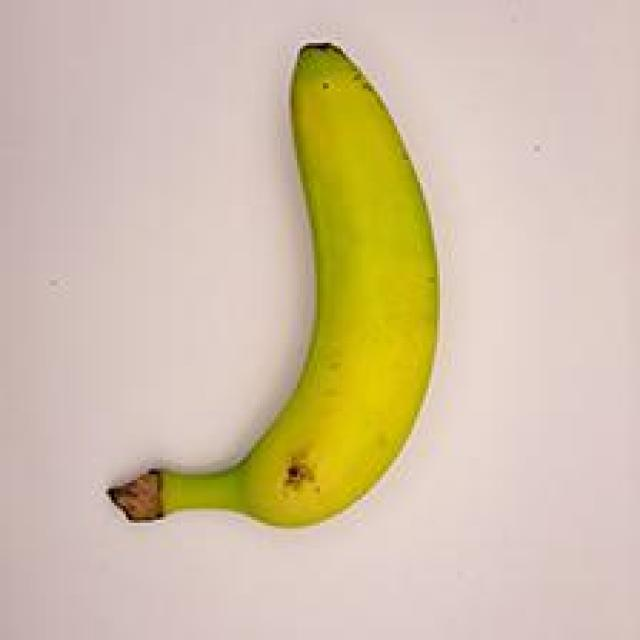unripe: (104, 20, 473, 544)
